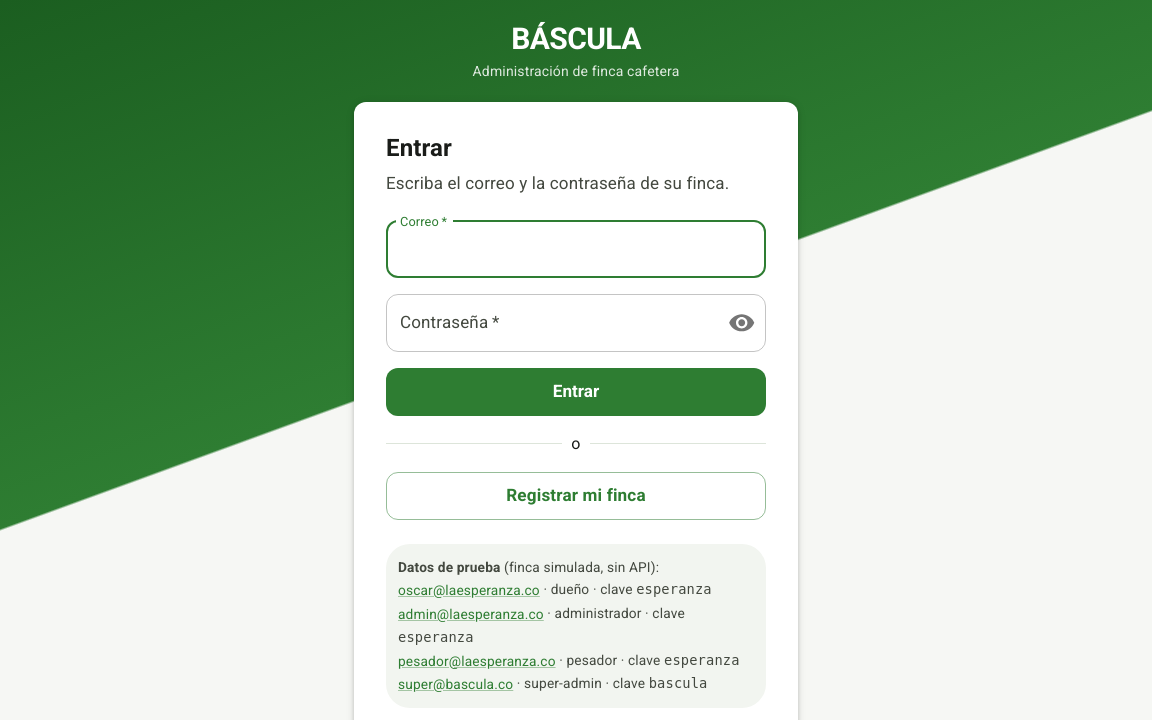
it: after a password › ignores https://evil.example/configuracion and goes to the role's home
Type "oscar@laesperanza.co" into the field labelled "Correo *" at (576,249), box [386,221,766,278]
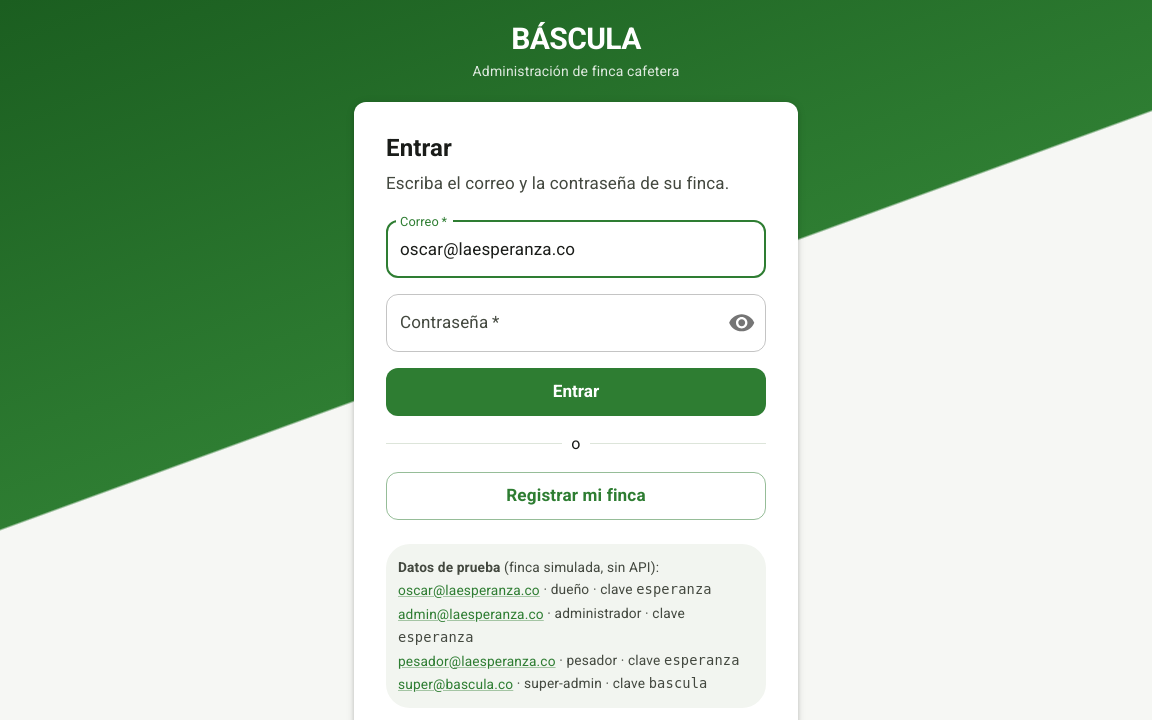
Type "esperanza" into the password field labelled "Contraseña *" at (549,323), box [386,294,712,352]
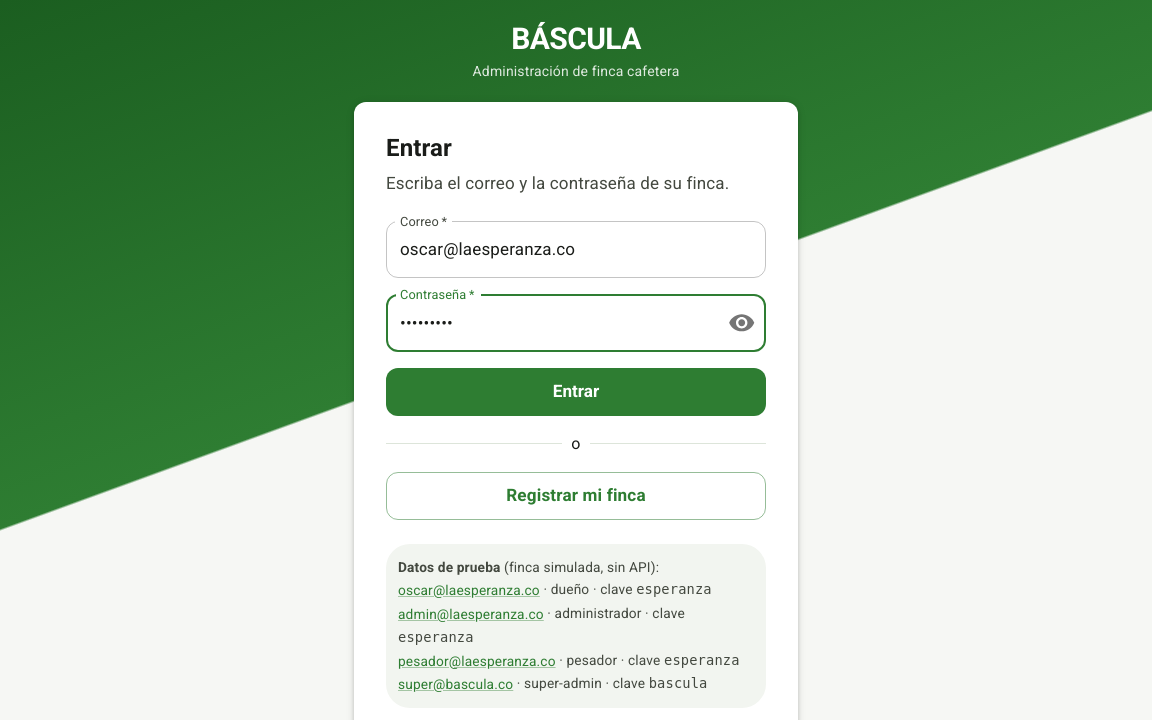
Click the button "Entrar" at (576,392), box [386,368,766,416]
(page scrolled)
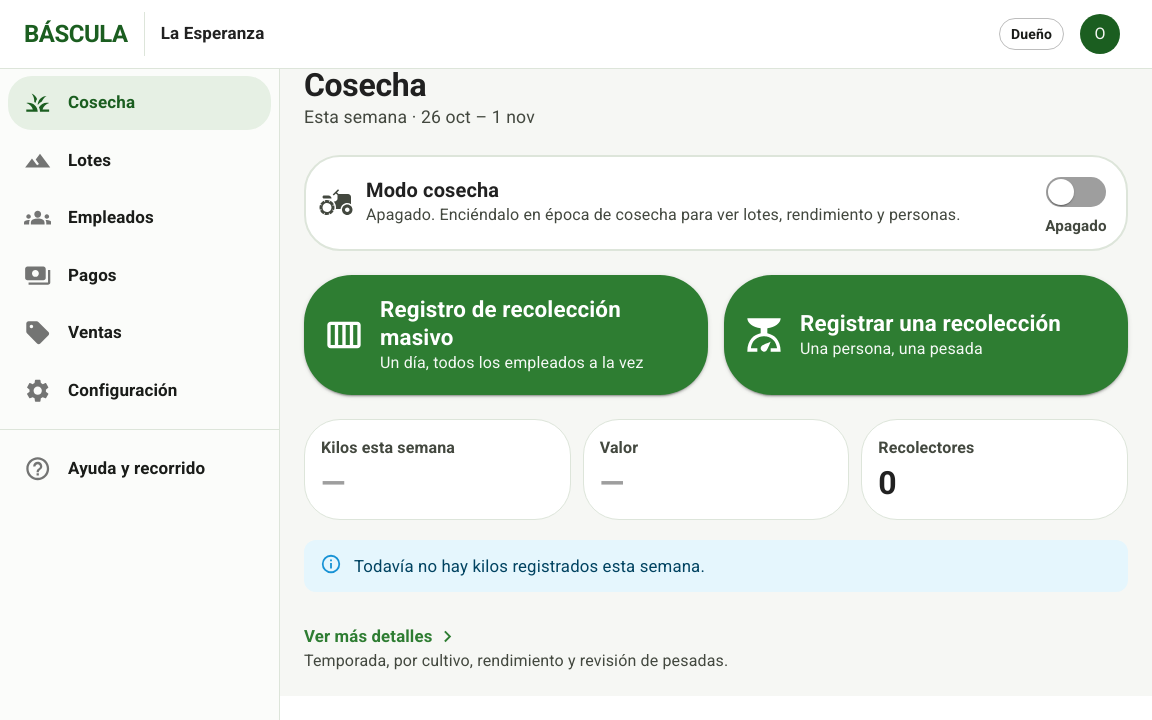
Check: the heading "Cosecha" is shown, box [304,66,426,104]
